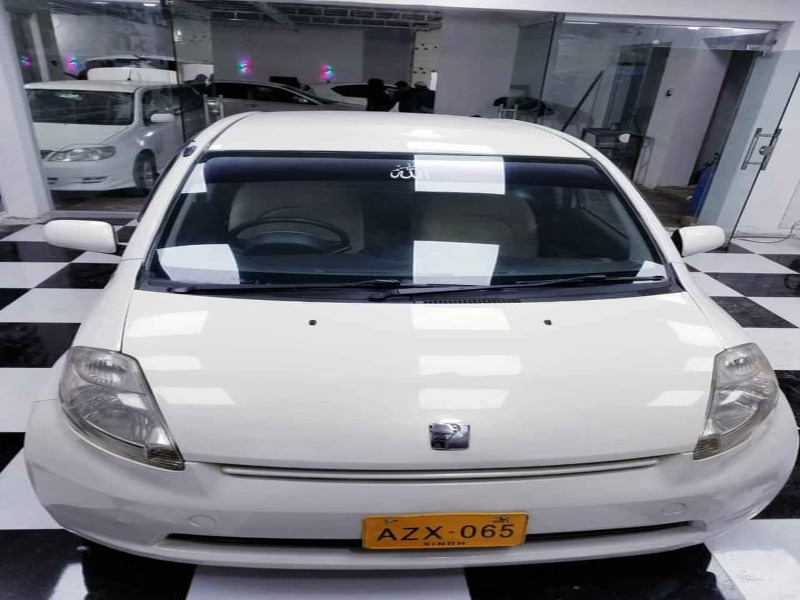License Plate: (359, 510, 533, 559)
